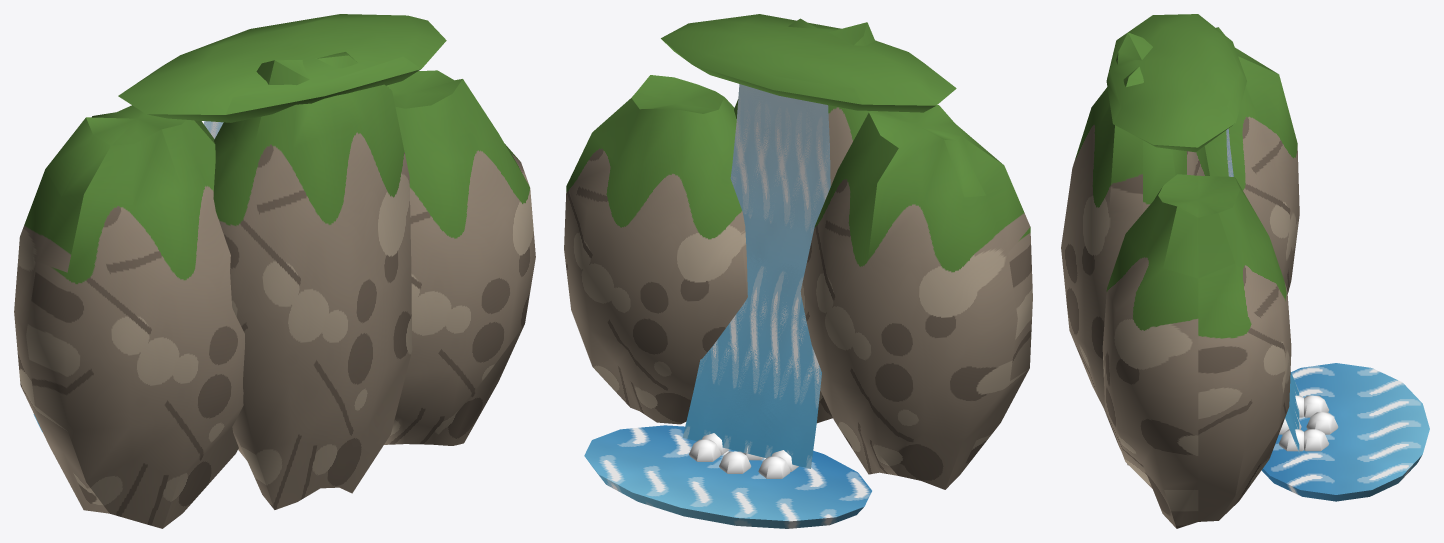
The model's file is env_waterfall.glb.
3 views of the same model, side by side, from view 1: azimuth 30°, elevation 25°; view 2: azimuth 150°, elevation 25°; view 3: azimuth 270°, elevation 25° (orthographic). The views are drawn at different scales.
Parts seen in each view (by area): view 1: env_waterfall; view 2: env_waterfall; view 3: env_waterfall.
Part boxes in pixels (x1=…): env_waterfall: x1=14, y1=14, x2=535, y2=528; env_waterfall: x1=564, y1=14, x2=1032, y2=528; env_waterfall: x1=1061, y1=14, x2=1429, y2=528.
Size of the model in its own units: 11.23 by 9.7 by 8.03.
1 material, 1 textured.
